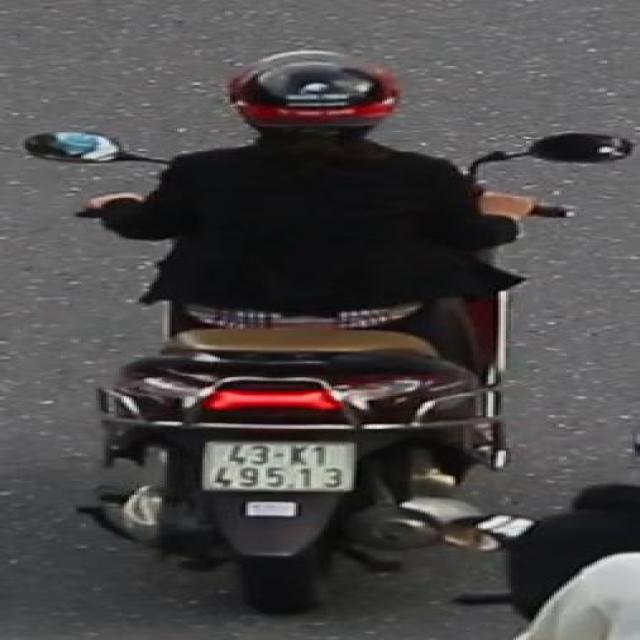LP: (186, 434, 365, 496)
helmet: (214, 45, 411, 159)
